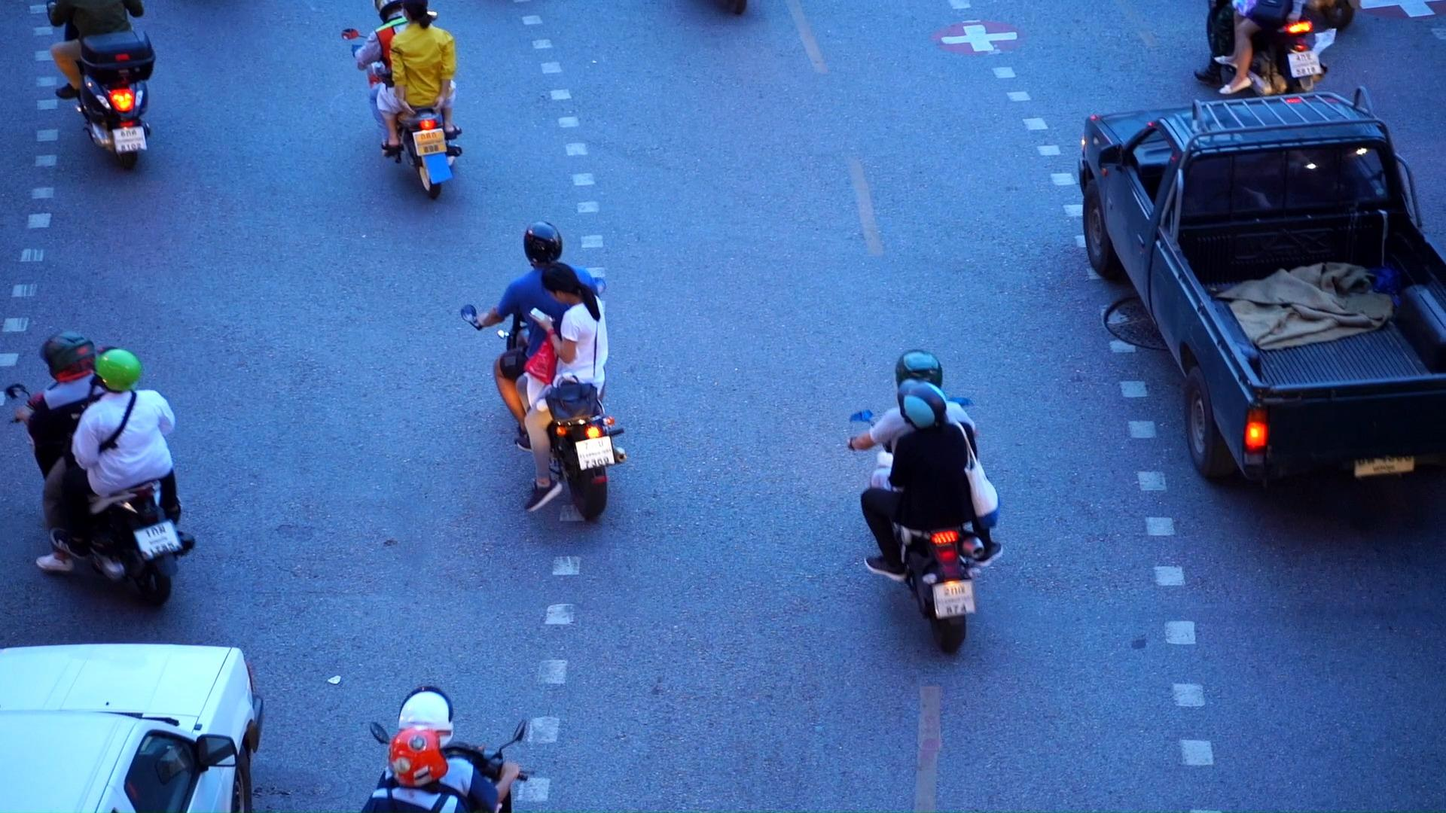driver: (4, 331, 196, 608), (462, 221, 628, 521), (845, 349, 1005, 656), (342, 0, 462, 199), (359, 685, 535, 813), (46, 0, 154, 169), (1194, 0, 1328, 96)
helmet: (387, 725, 449, 795), (397, 685, 454, 751), (39, 330, 96, 383), (898, 378, 947, 434), (88, 346, 142, 394), (895, 348, 943, 390), (524, 221, 562, 270), (373, 0, 403, 22)
no-helmet: (540, 261, 598, 305), (402, 1, 432, 29)
